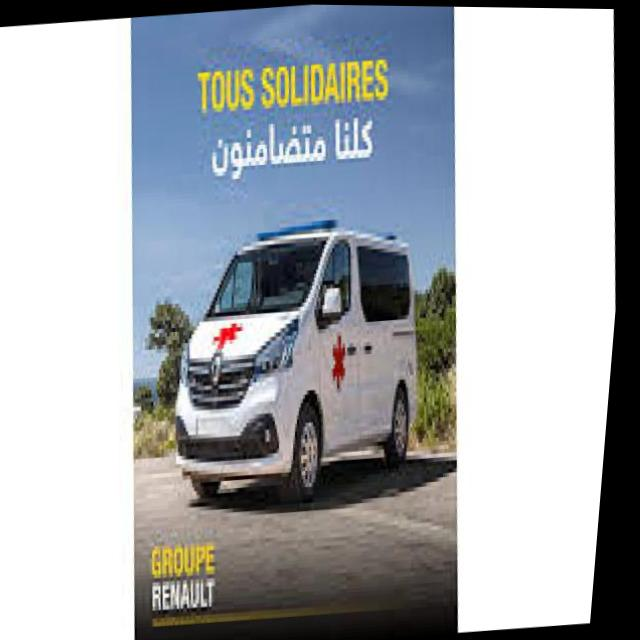ambulance: (155, 199, 460, 524)
